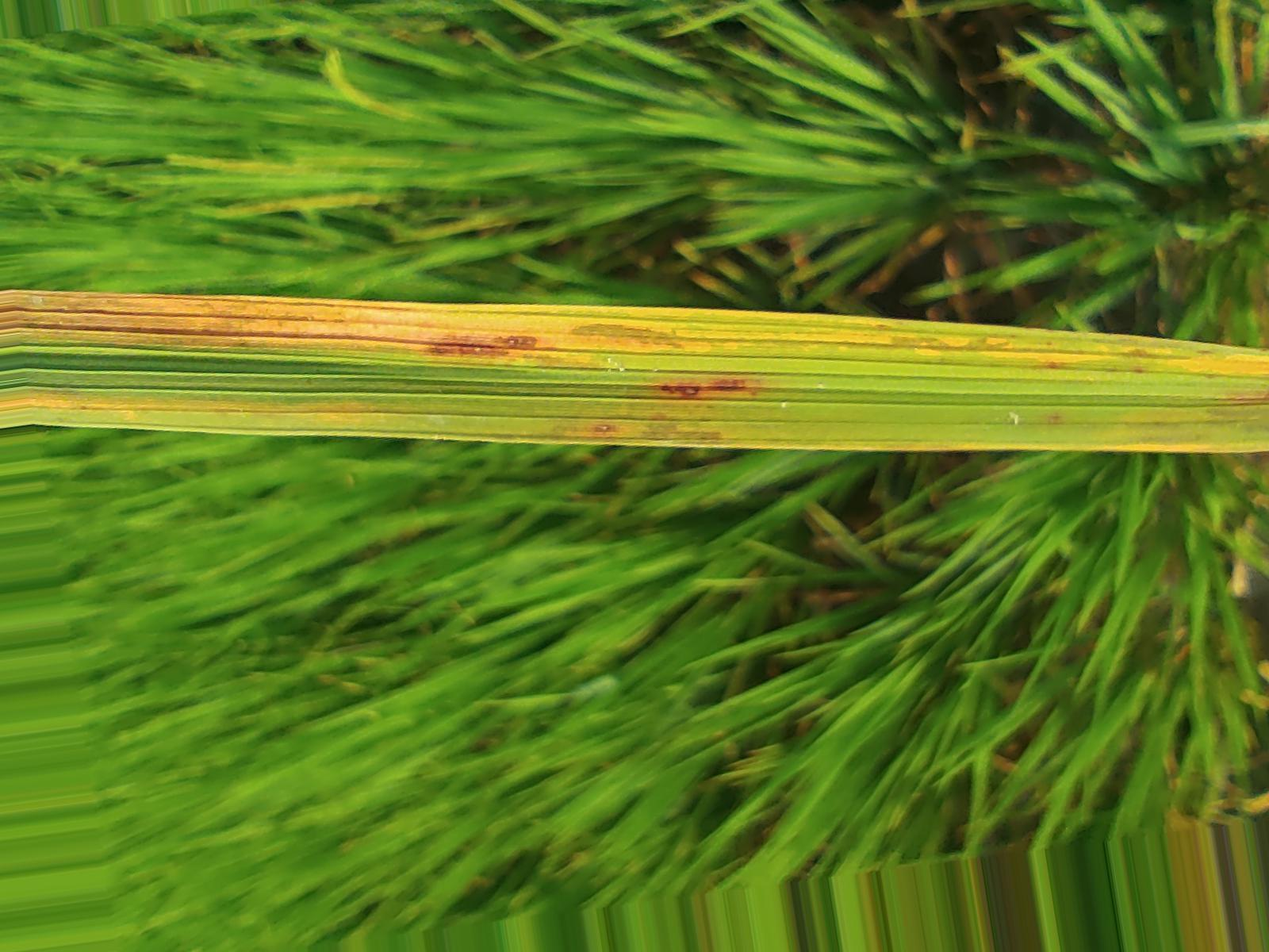LEAF: (34, 292, 1268, 451)
NBS: (705, 381, 744, 389), (1043, 413, 1067, 425)
